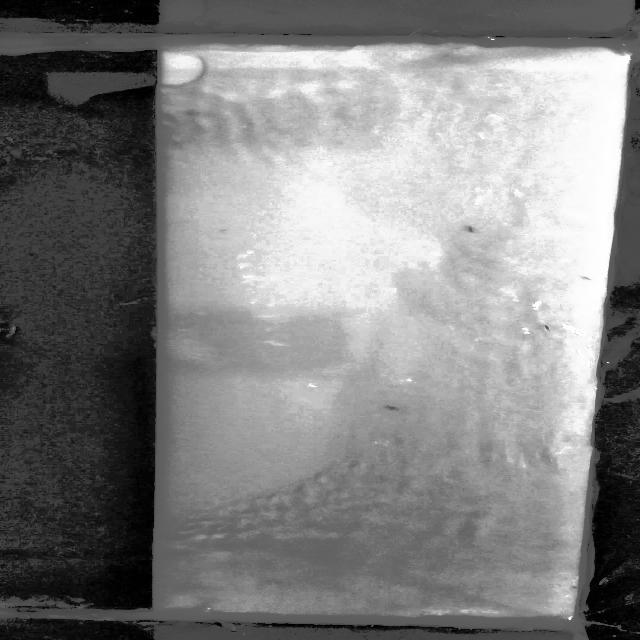shrimp: (458, 221, 480, 235), (382, 403, 404, 414), (539, 321, 554, 333)
